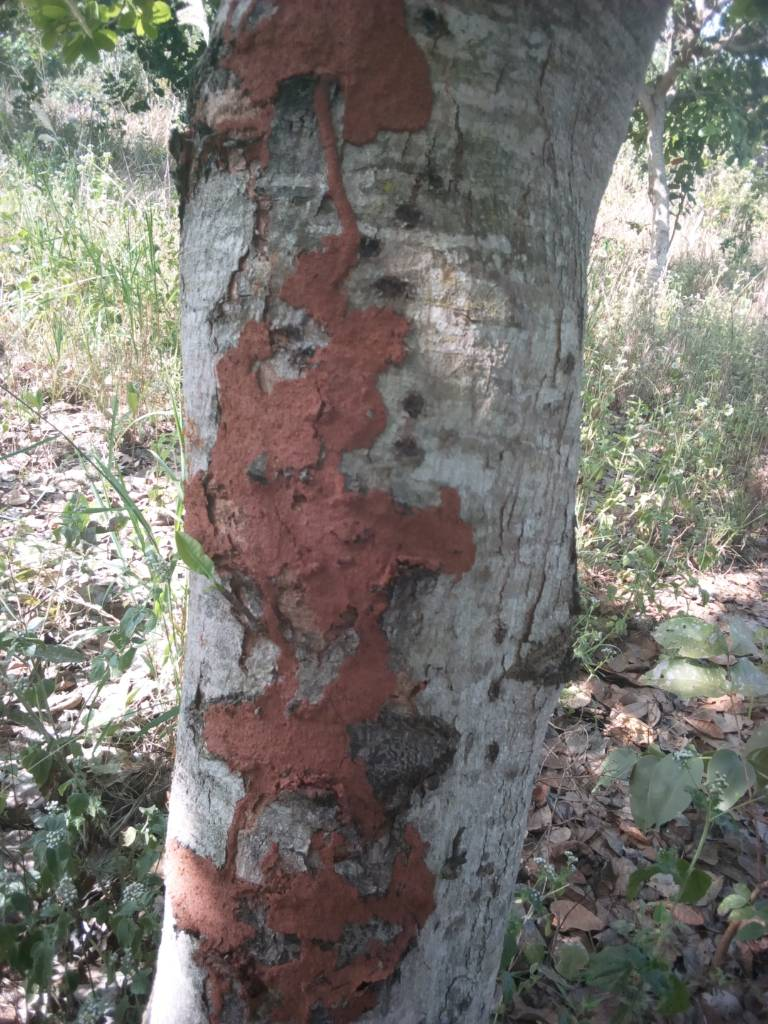Termites: (183, 233, 471, 1016), (219, 2, 435, 227)
